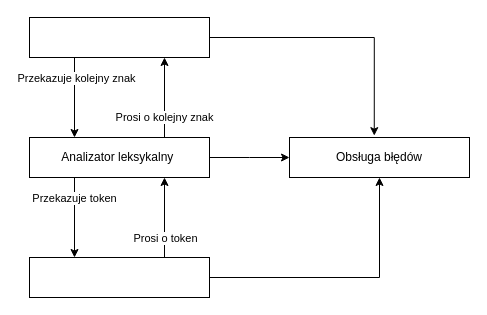
Some shapes in this 487 by 315 pixel diagram are drawn without their labels. Each missing label, with the box of its shape:
Analizator składniowy: (28, 256, 210, 298)
File parser: (28, 16, 210, 58)
